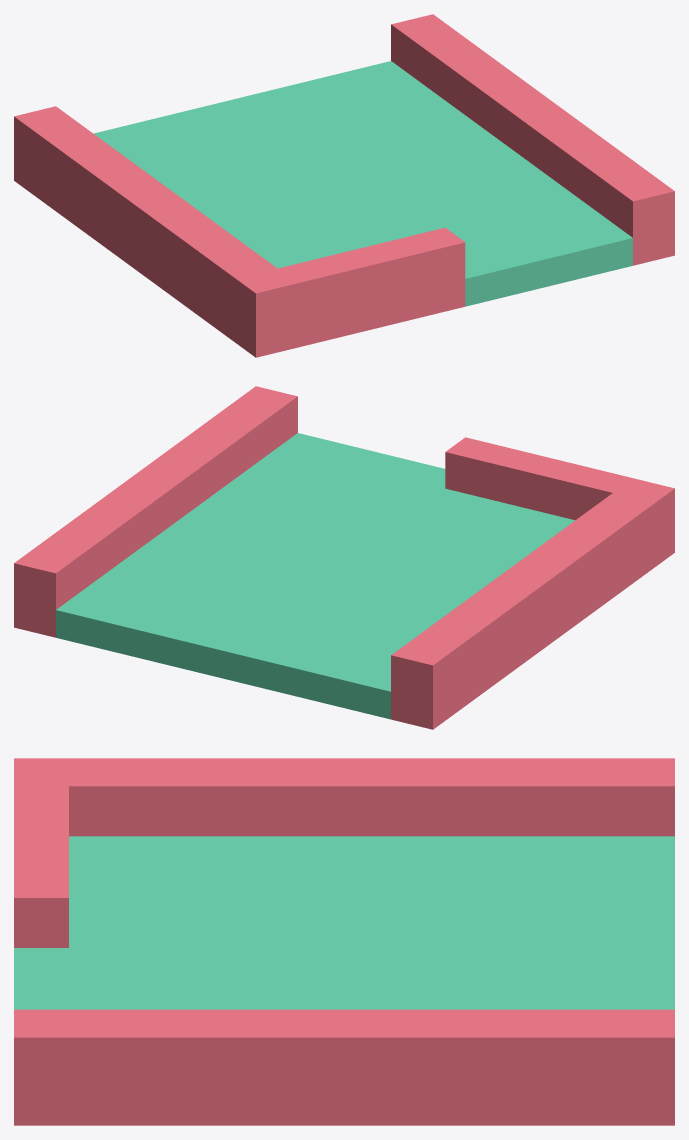
Rendered from wallLeft.glb.
3 views of the same model, one above another, from view 1: azimuth 30°, elevation 25°; view 2: azimuth 150°, elevation 25°; view 3: azimuth 270°, elevation 25° (orthographic). The views are drawn at different scales.
Parts seen in each view (by area): view 1: wallLeft; view 2: wallLeft; view 3: wallLeft.
Boxes of the visible parts, bbox=[...] form: wallLeft: bbox=[14, 14, 674, 357]; wallLeft: bbox=[14, 386, 674, 729]; wallLeft: bbox=[14, 758, 674, 1125].
Size of the model in its own units: 0.9999 by 0.1467 by 0.9999.
